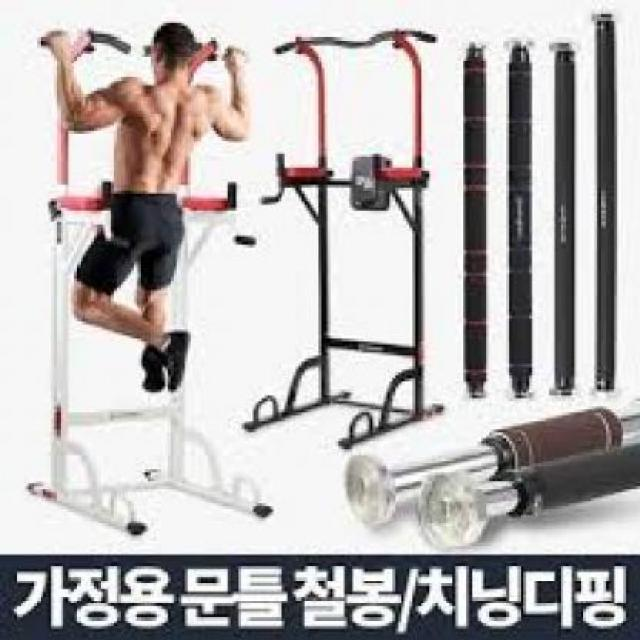chinning dipping: (29, 28, 262, 538), (246, 28, 440, 448)
